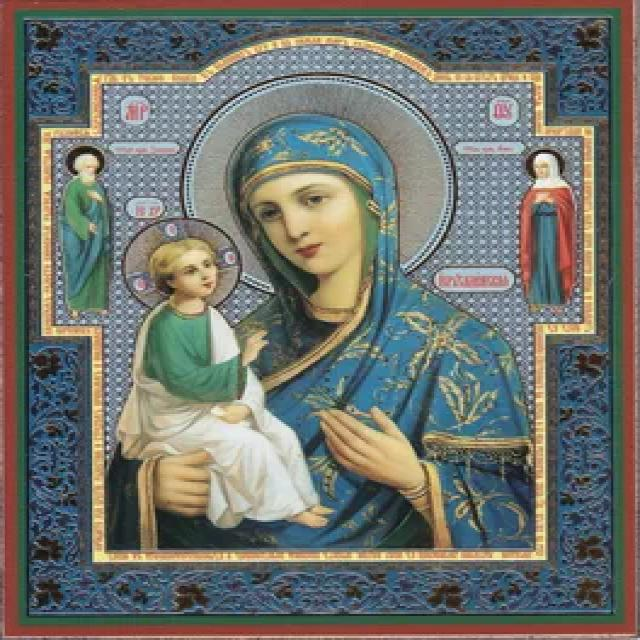mother of god: (115, 109, 542, 571)
